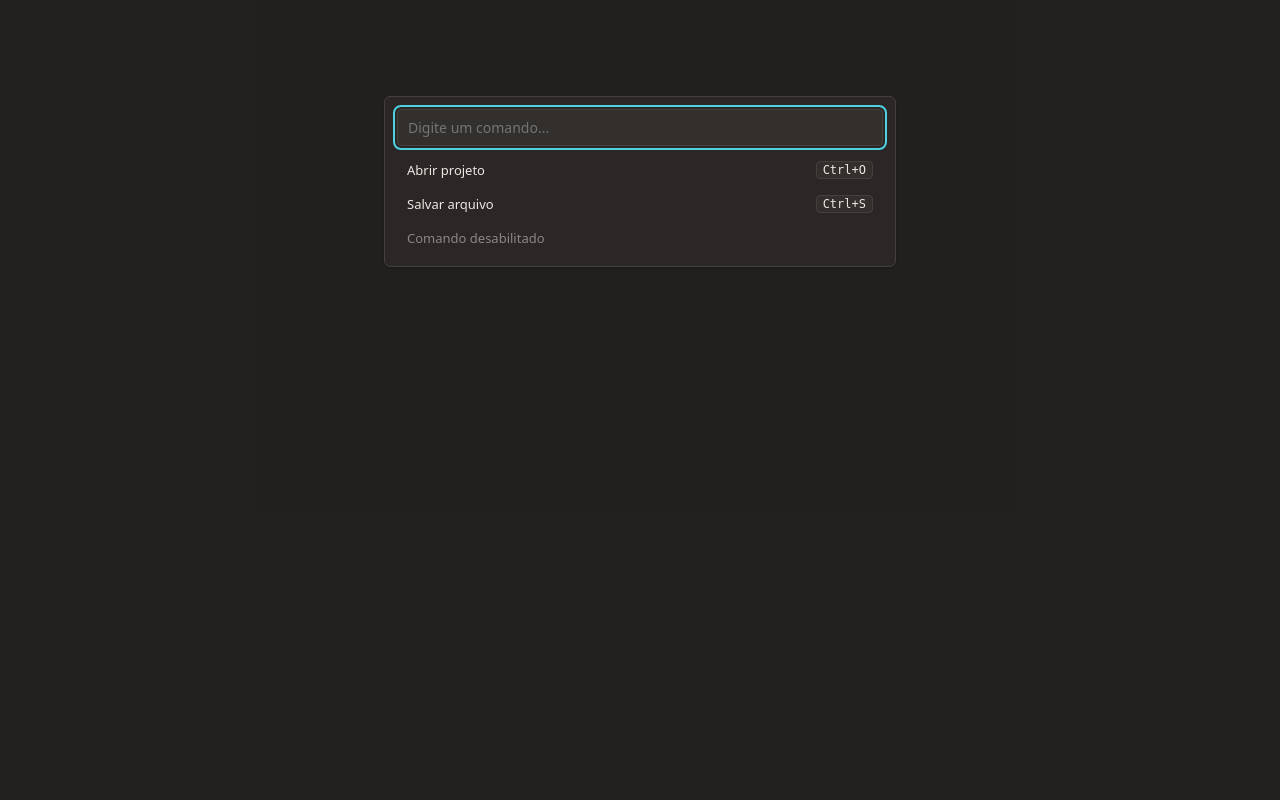
Test: CommandPalette › shows the empty state message when nothing matches
Type "inexistente" into the field with placeholder "Digite um comando..." at (640, 128), box [397, 109, 883, 146]
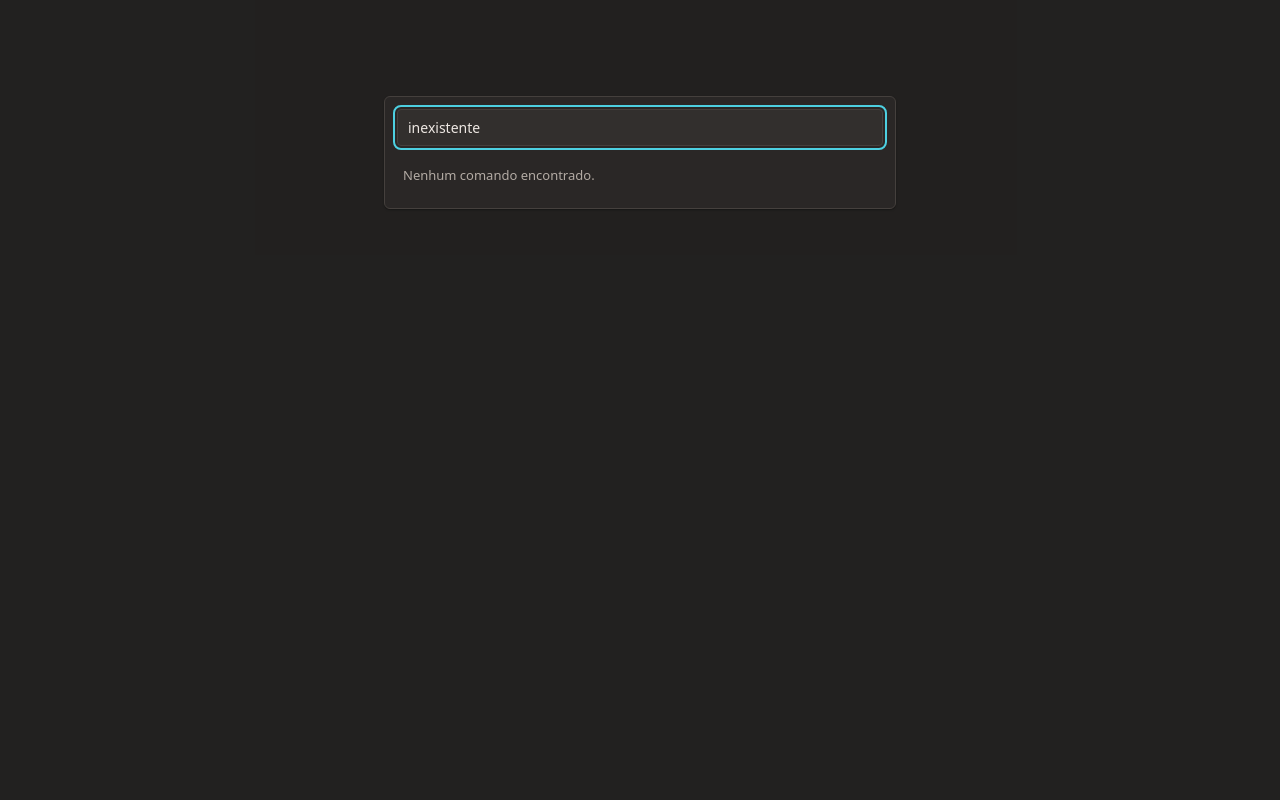
Expected: the text "Nenhum comando encontrado." is shown, [403, 166, 595, 184]
